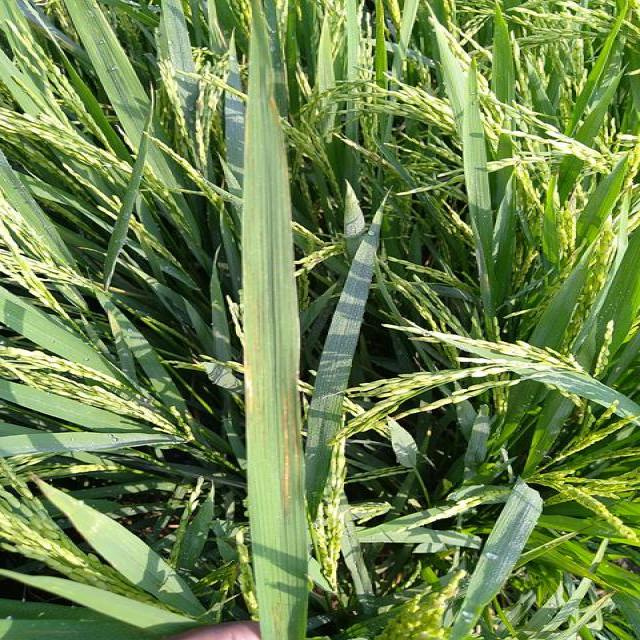Leaf Streak: (281, 390, 303, 514), (260, 587, 299, 639), (245, 369, 260, 425)
